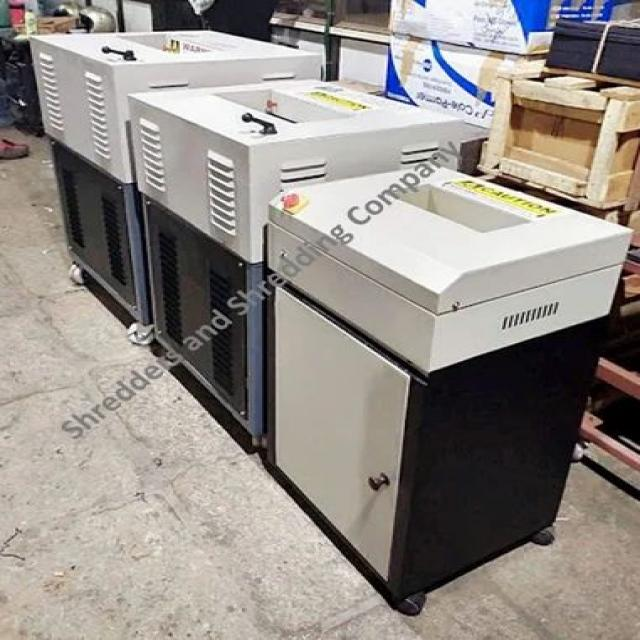palette: (271, 152, 610, 607), (134, 80, 468, 467), (34, 29, 331, 412)
